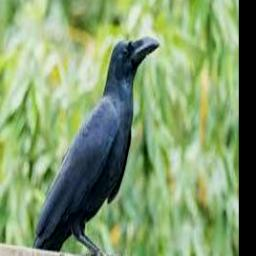Crow: (22, 35, 160, 256)
